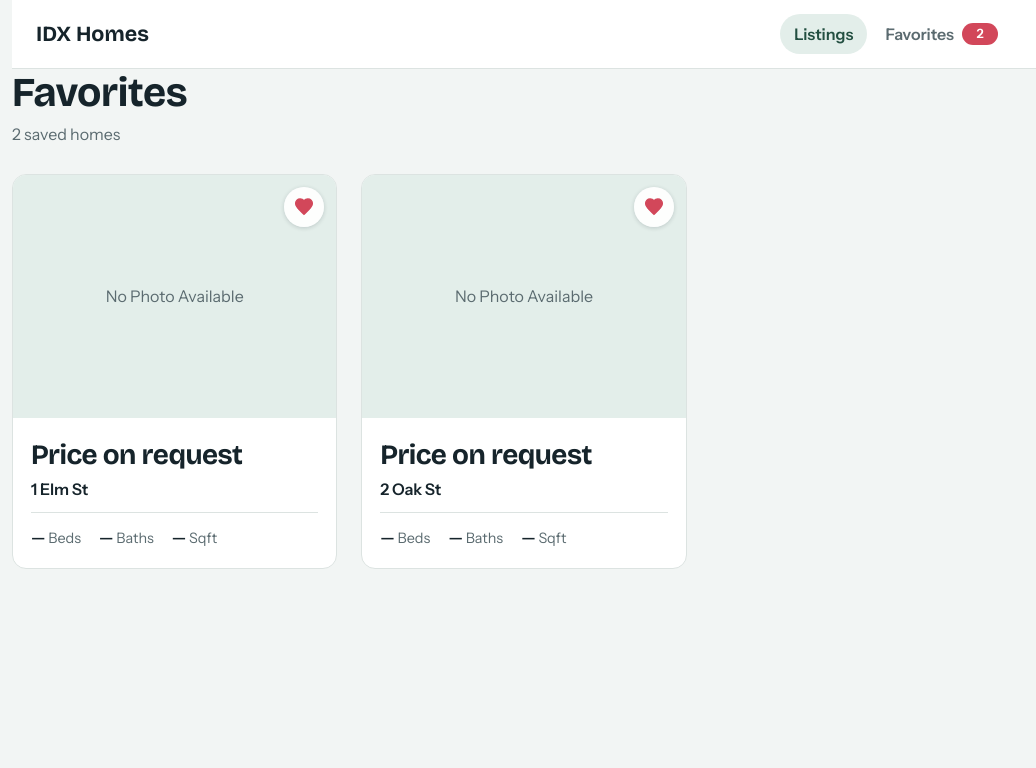
Test: removing a favorite updates the list and header count immediately
Expected: the link "Favorites 2" is shown, [885, 23, 998, 45]
Click the button named "Remove 1 Elm St from favorites": [304, 207] box [284, 187, 324, 227]
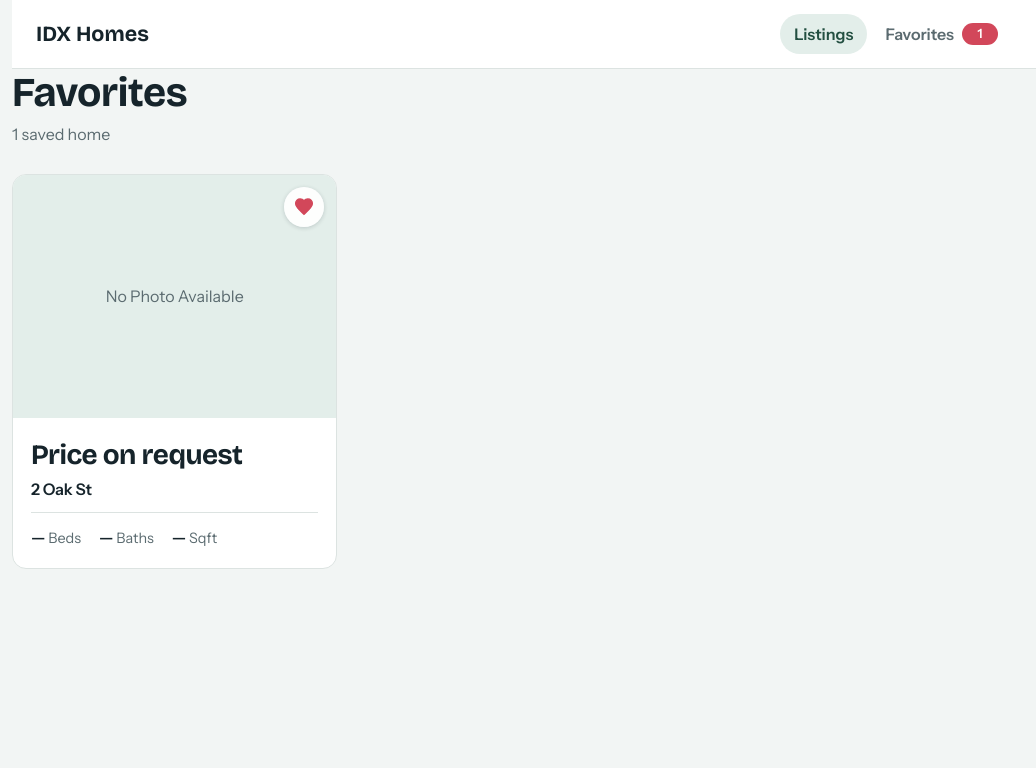
Now the link "1 Elm St" is gone
Now the text "1 saved home" is shown, box [12, 124, 110, 144]
Now the link "Favorites 1" is shown, box [885, 23, 998, 45]
